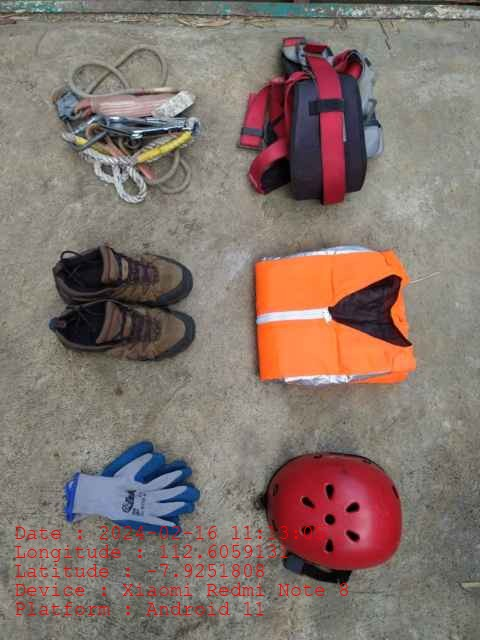ROMPI: (257, 248, 414, 388)
SEPATU: (50, 246, 194, 363)
TAMBANG_SLING: (52, 43, 199, 203)
